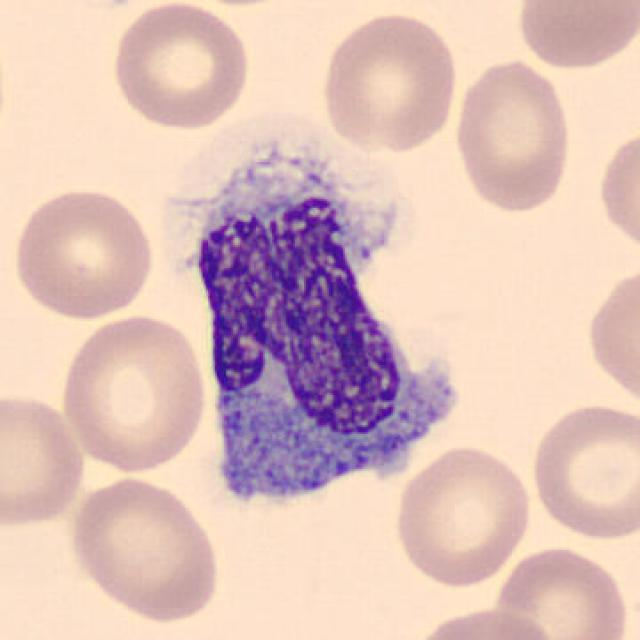Monocyte: (185, 124, 469, 526)
RBC: (55, 310, 212, 476), (64, 472, 224, 626), (316, 7, 462, 157), (389, 442, 535, 589), (9, 182, 158, 322), (450, 55, 576, 217), (107, 0, 254, 132), (526, 398, 638, 543), (489, 543, 633, 640), (0, 388, 89, 531), (510, 0, 638, 72), (581, 261, 640, 414), (594, 122, 638, 261), (409, 603, 562, 640), (183, 0, 301, 11)
